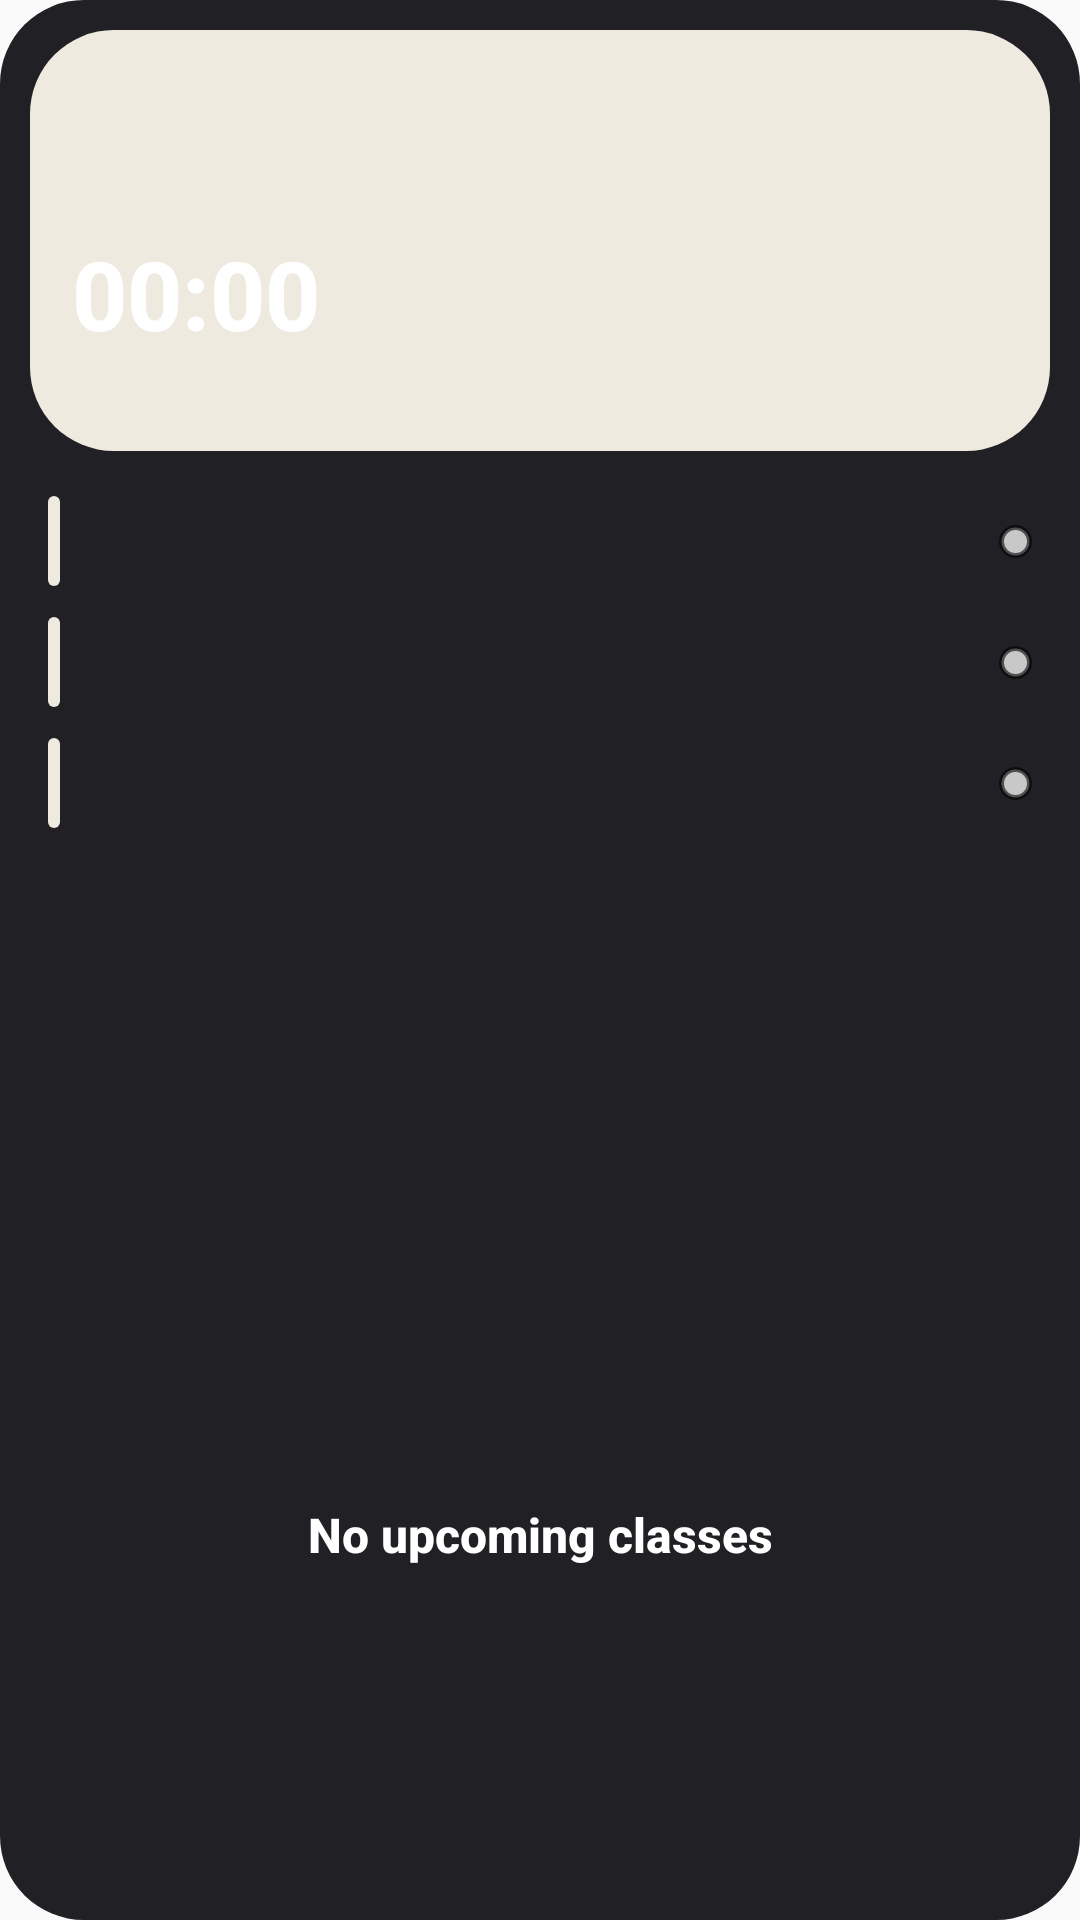

Icon click points for this 1080x1920 phone screenshot, format [x,y]:
att dot none: [1015,541], [1015,662], [1015,783]
